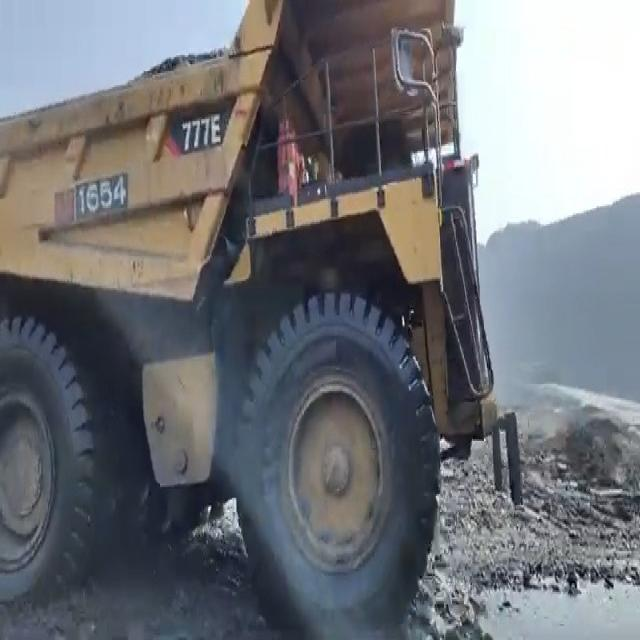dump_truck: (0, 4, 527, 634)
